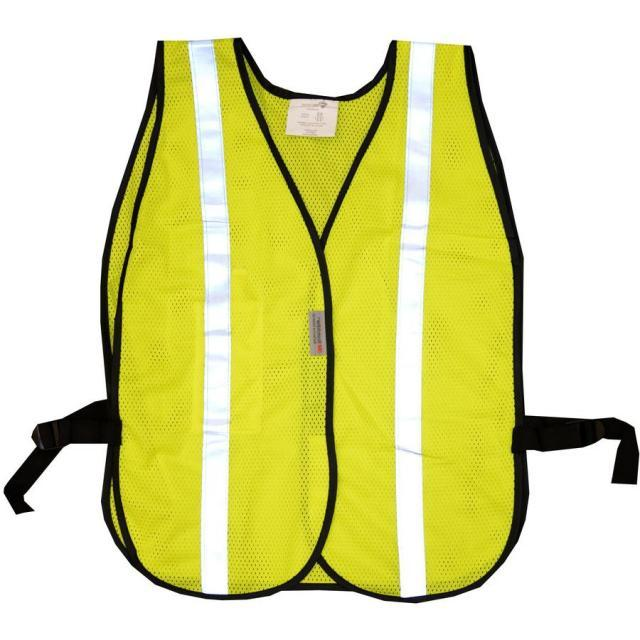reflective_jacket: (22, 16, 630, 612)
